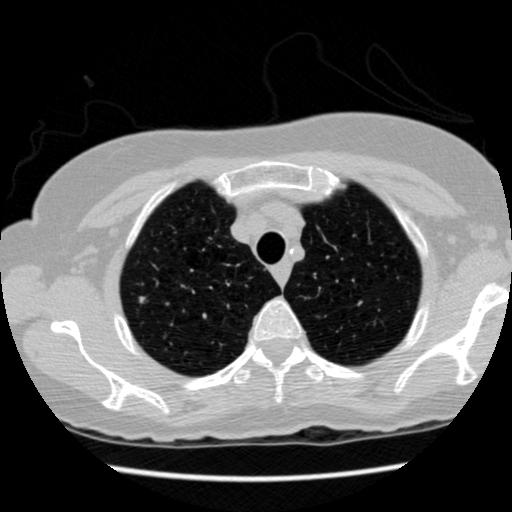nodule: (135, 292, 148, 305)
